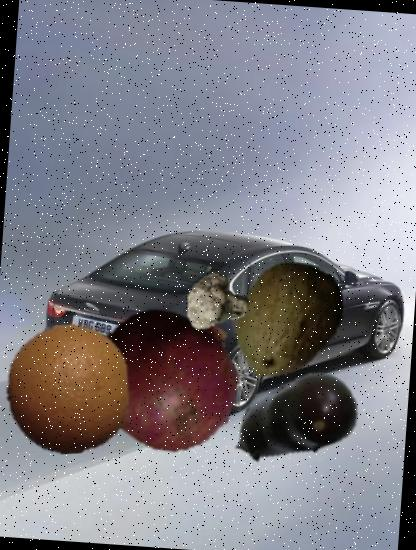Cauliflower: (183, 266, 252, 336)
Eggplant: (222, 348, 366, 492)
Orange: (0, 320, 136, 459)
Papaya: (219, 252, 354, 388)
Pomegranate: (88, 296, 248, 457)
